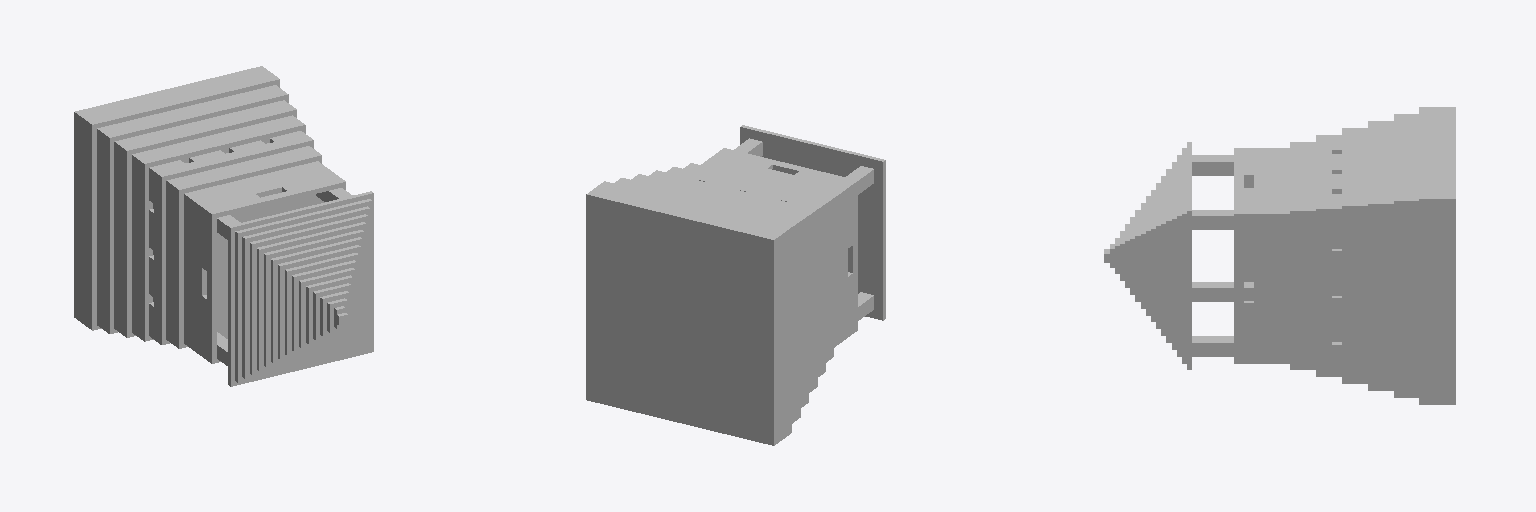
File: tower.obj
The picture shows the model from 3 angles: view 1: azimuth 30°, elevation 25°; view 2: azimuth 150°, elevation 25°; view 3: azimuth 270°, elevation 25°; orthographic projection.
Size of the model in its own units: 42 by 44 by 68.